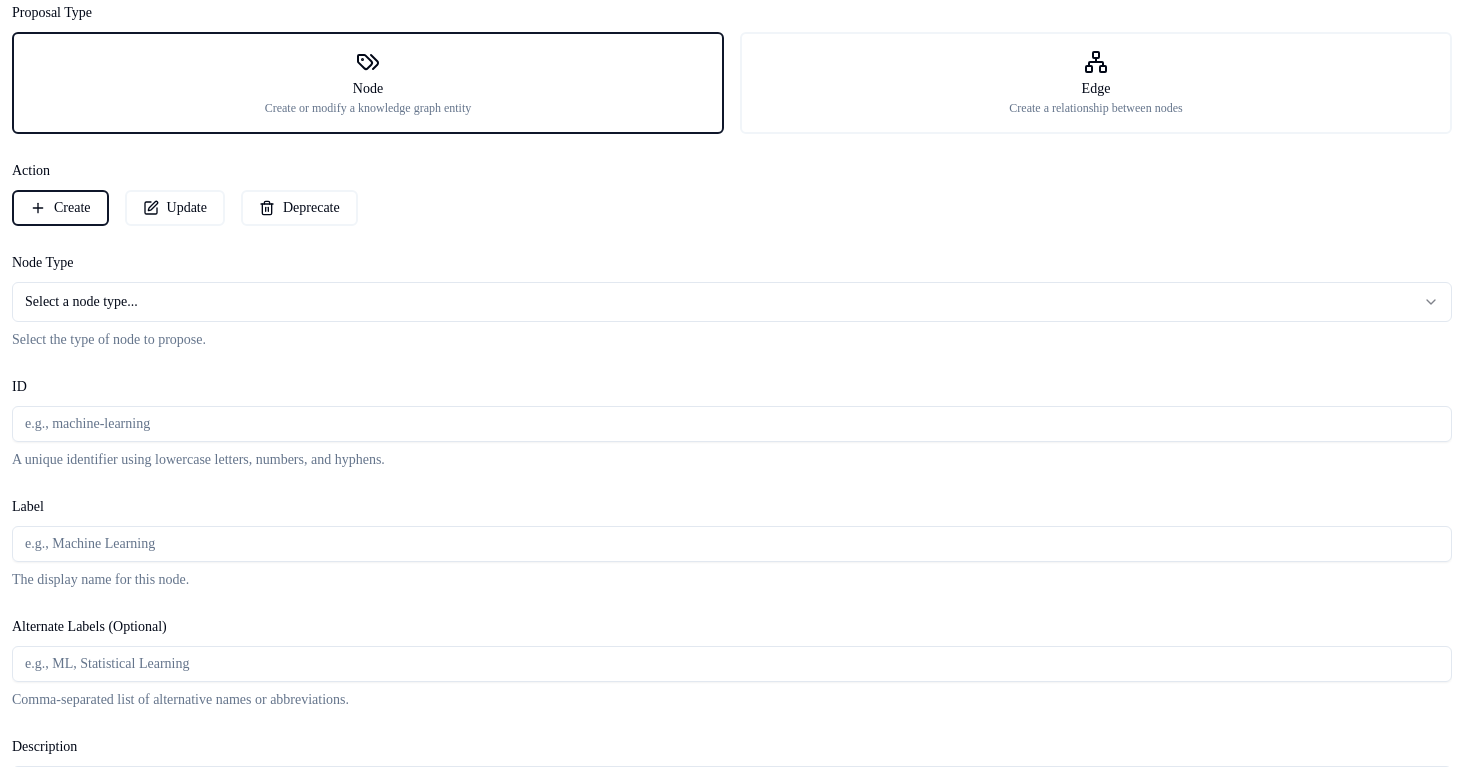
Scenario: ProposalForm › Node Proposals › shows target URI field for update action
The width and height of the screenshot is (1464, 767).
Step 1. Click the text "Update" → (187, 208), box [166,201,207,215]
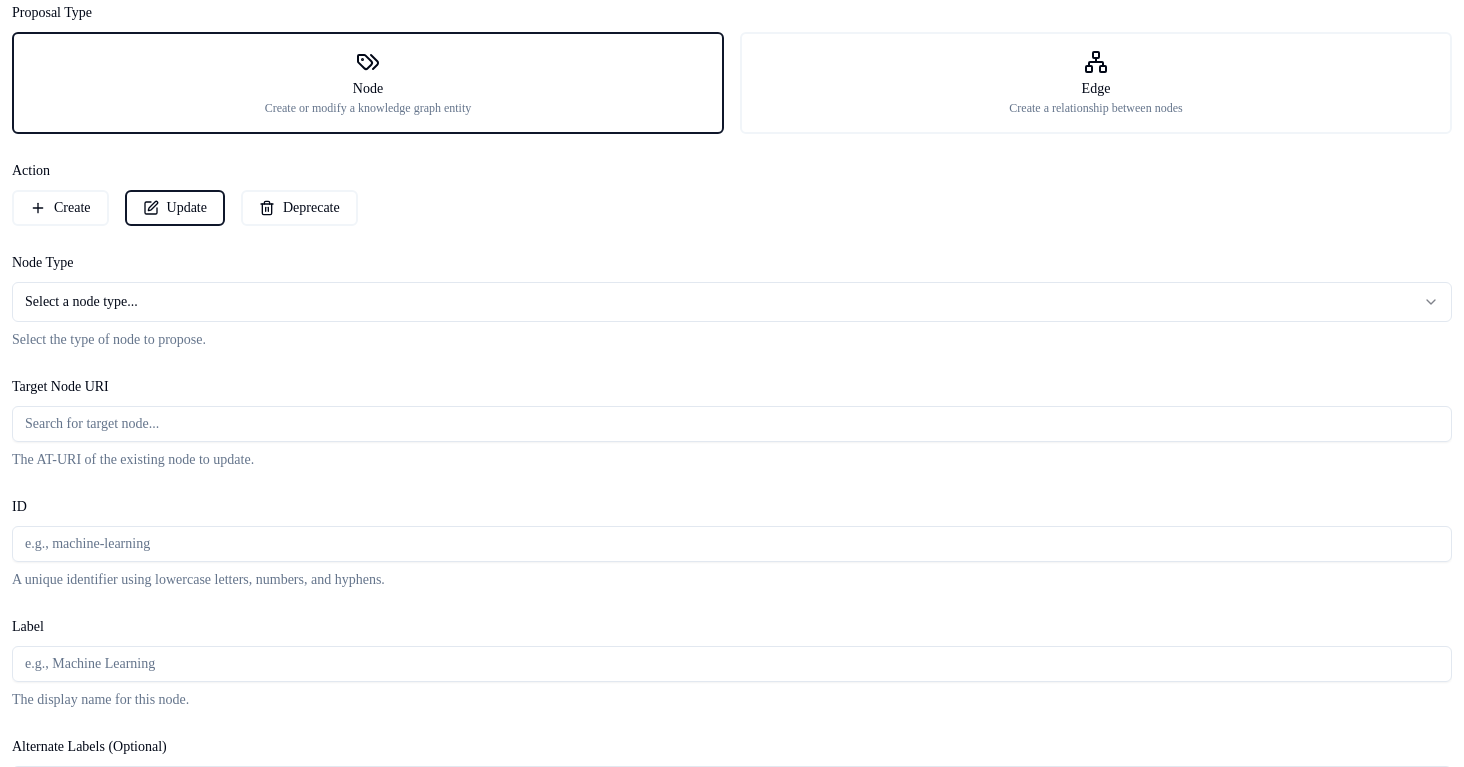
Expected: the field labelled "Target Node URI" is shown, [12,406,1452,442]
